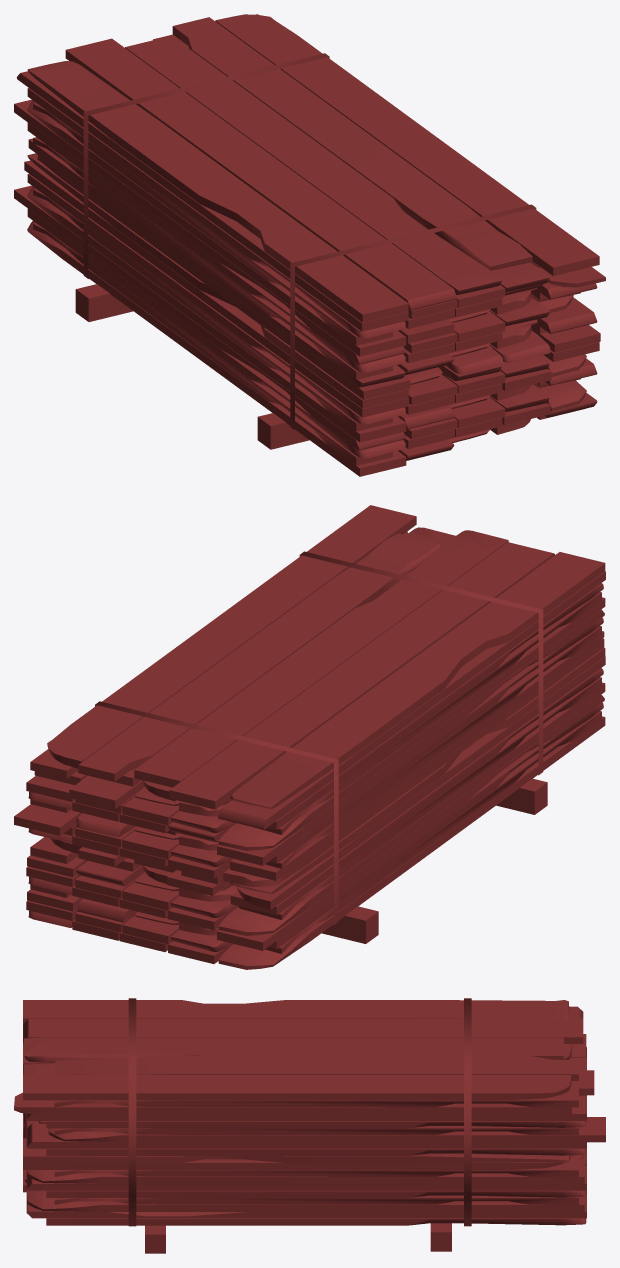
The model's file is SM_WoodPlankPack07.fbx.
3 views of the same model, one above another, from view 1: azimuth 30°, elevation 25°; view 2: azimuth 150°, elevation 25°; view 3: azimuth 270°, elevation 25° (orthographic). The views are drawn at different scales.
Parts seen in each view (by area): view 1: WoodPlankPack07; view 2: WoodPlankPack07; view 3: WoodPlankPack07.
Boxes of the visible parts, bbox=[...] form: WoodPlankPack07: bbox=[14, 14, 605, 476]; WoodPlankPack07: bbox=[14, 505, 605, 969]; WoodPlankPack07: bbox=[14, 998, 605, 1253].
Size of the model in its own units: 91.85 by 58 by 205.
